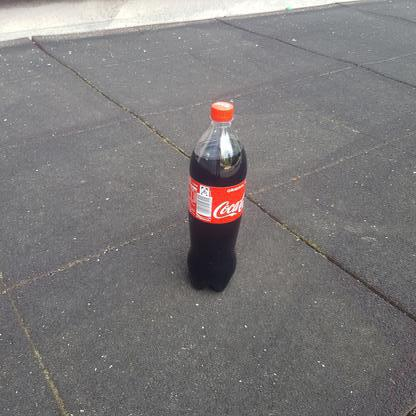coca-cola: (183, 100, 249, 295)
